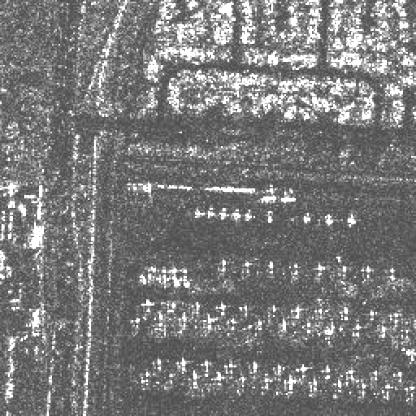airplane: (283, 375, 297, 395), (138, 299, 156, 312), (136, 369, 154, 382), (152, 314, 166, 330), (320, 322, 336, 336), (330, 379, 344, 395), (266, 258, 278, 276), (240, 260, 254, 275), (214, 302, 228, 317), (386, 310, 400, 325), (307, 378, 322, 392), (203, 315, 215, 332), (249, 358, 260, 376), (356, 379, 370, 393), (379, 384, 393, 398), (367, 307, 382, 320), (369, 367, 382, 382), (237, 374, 249, 390), (402, 385, 414, 401), (252, 318, 265, 332), (213, 369, 226, 383), (294, 361, 307, 375), (318, 364, 332, 377), (263, 208, 275, 223), (224, 359, 236, 374), (242, 208, 255, 221), (128, 314, 142, 326), (176, 314, 188, 328), (343, 368, 357, 380), (393, 370, 405, 384), (202, 358, 212, 374), (346, 213, 358, 226), (290, 304, 302, 317), (166, 300, 177, 314), (322, 212, 334, 224), (315, 264, 327, 276), (385, 266, 397, 278), (238, 306, 250, 318), (175, 358, 187, 370), (304, 320, 315, 333), (218, 257, 228, 271), (268, 304, 278, 318), (340, 306, 350, 320), (352, 322, 362, 336), (274, 362, 284, 376), (301, 211, 312, 223), (288, 262, 299, 274), (361, 264, 372, 276), (260, 376, 271, 388), (377, 325, 387, 338), (193, 302, 202, 316), (228, 318, 237, 332), (218, 206, 228, 218), (152, 358, 162, 370), (164, 372, 174, 384), (338, 265, 348, 276), (231, 206, 240, 218), (280, 316, 289, 328), (206, 205, 214, 216), (192, 369, 200, 379), (193, 210, 203, 216)
